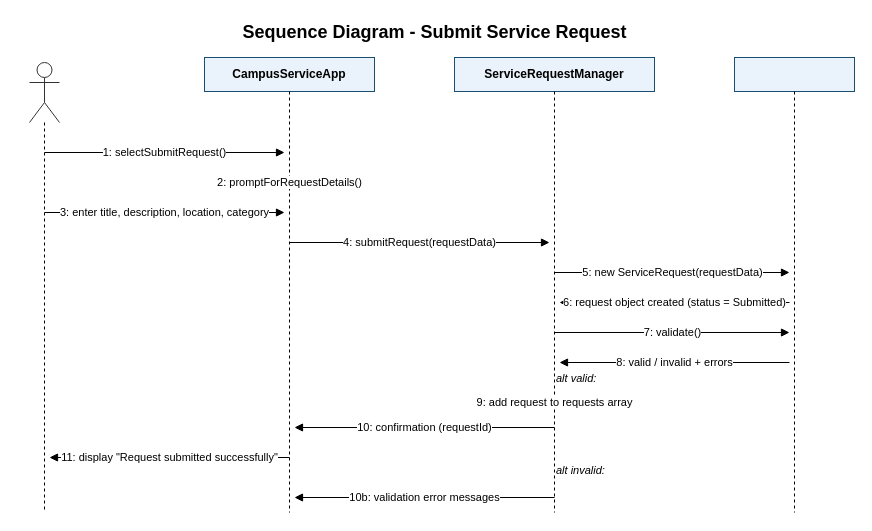
Image size: 872x531. Some labels were removed from this diagram. The centre of each missing label's shape, as x and y in pixels:
Requester: point 44,92
ServiceRequest: point 794,74
